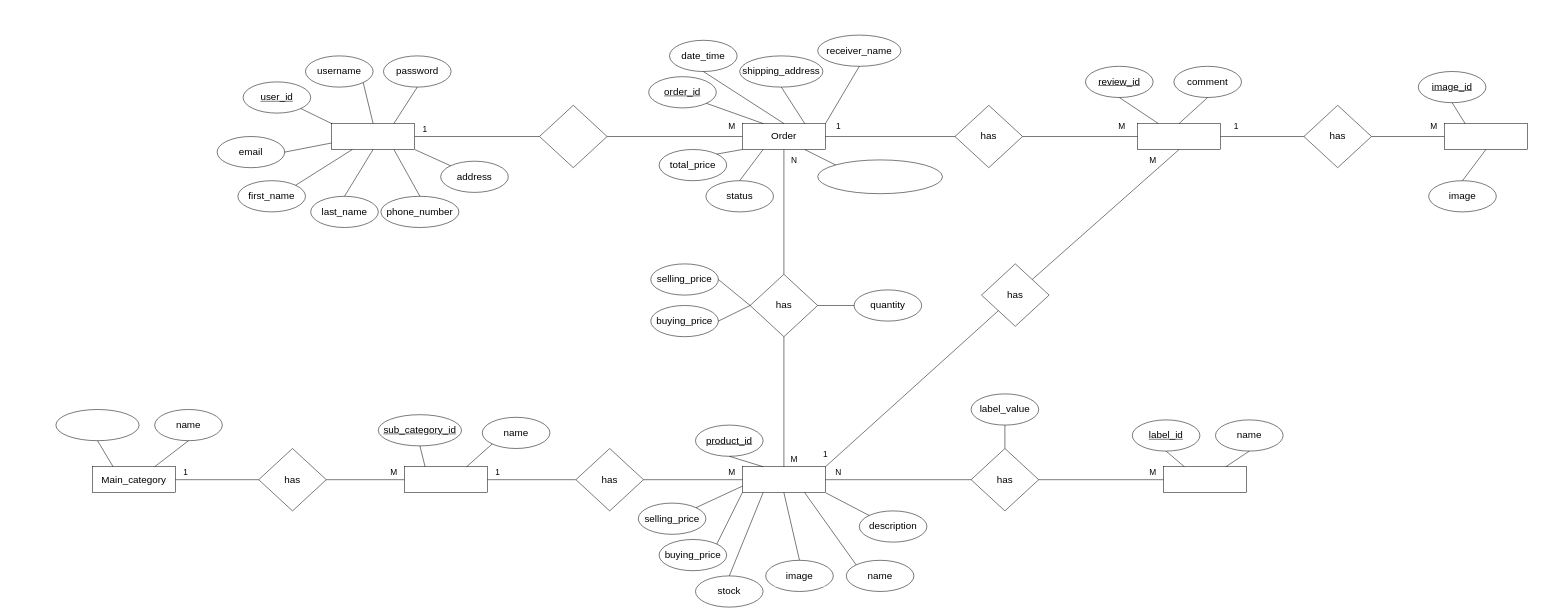
The diagram is 1563 pixels wide and 616 high, and some of its shapes have lost their labels. The centre of each missing label's shape, as x and y in pixels:
"can_make" belongs at point 573,136.
"Label" belongs at point 1205,479.
"main_category_id" belongs at point 97,425.
"Product" belongs at point 784,479.
"Product_review" belongs at point 1179,136.
"receiver_phone_number" belongs at point 879,176.
"Review_image" belongs at point 1486,136.
"Sub_category" belongs at point 446,479.
"User" belongs at point 373,136.
